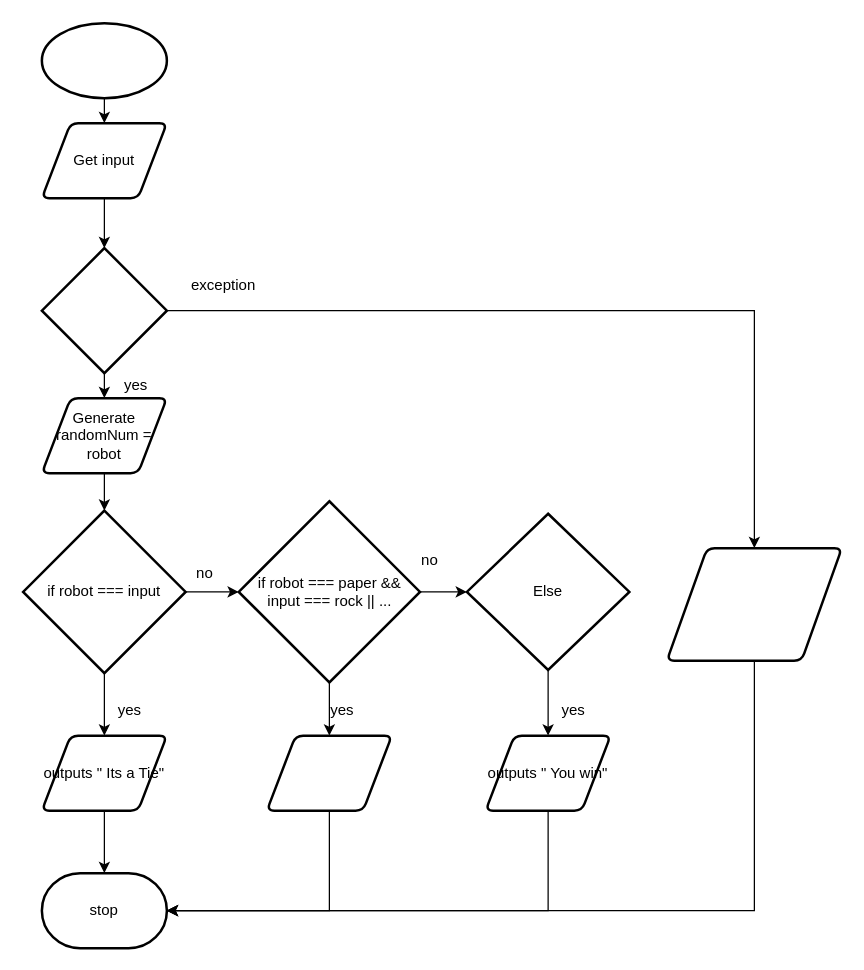
The diagram is 864 pixels wide and 970 high, and some of its shapes have lost their labels. Each missing label, with the centre of its shape:
"Invalid Input": pixel 753 603
outputs " A.I wins": pixel 328 772
start: pixel 104 60
try: pixel 104 310
